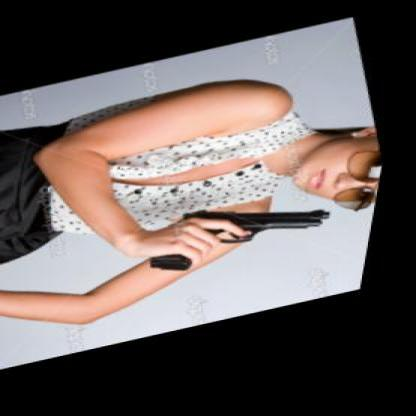pistol: (130, 184, 349, 282)
